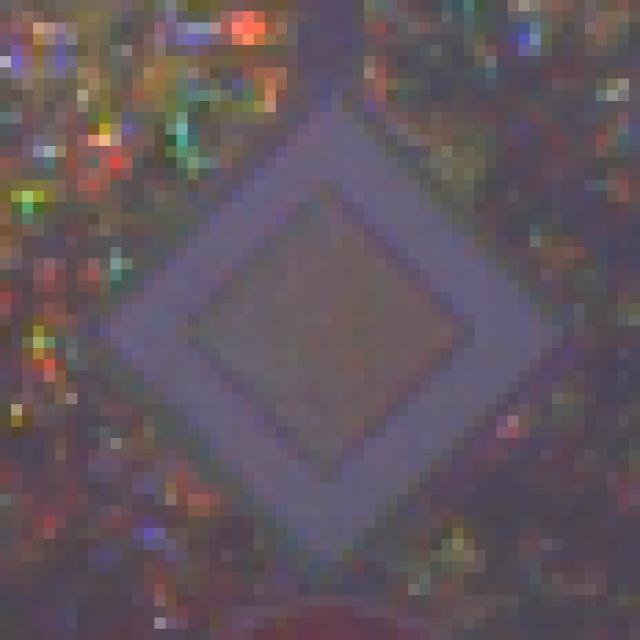Main Road: (67, 68, 575, 574)
